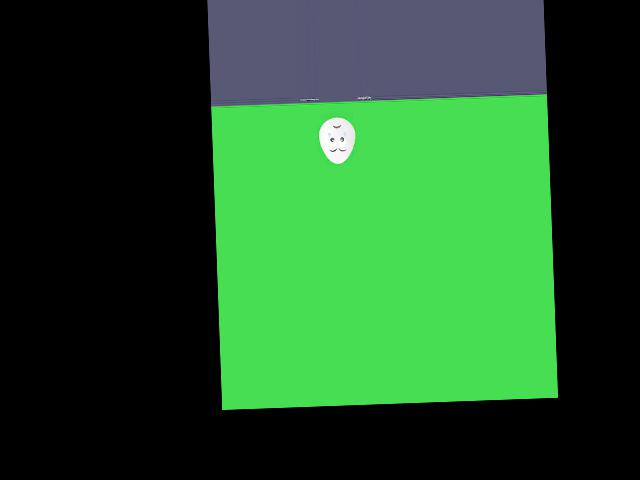egg: (318, 117, 356, 164)
